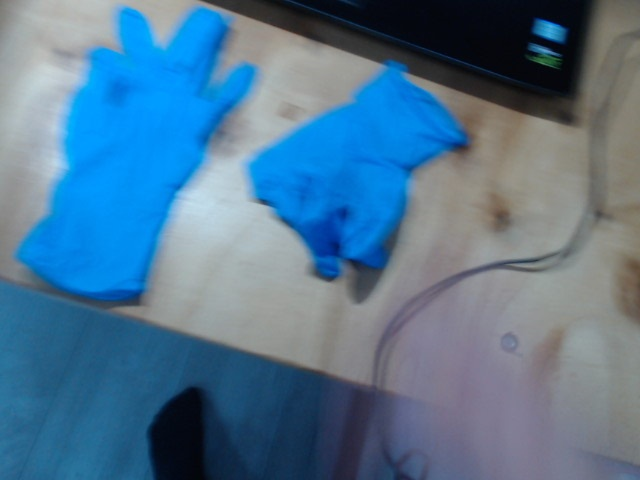medical_glove: (24, 5, 256, 296), (249, 63, 467, 278)
